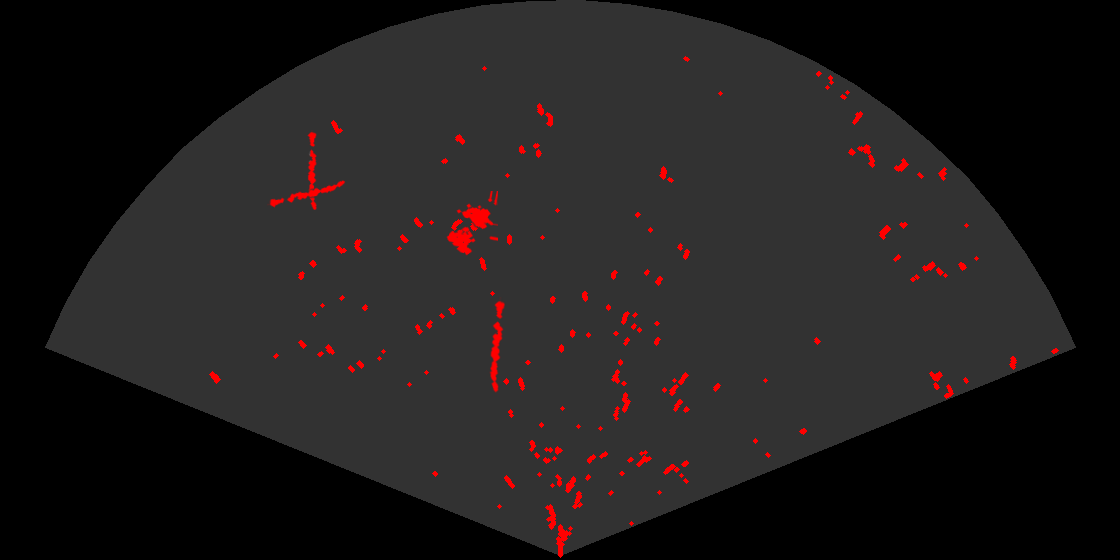cage: (445, 191, 498, 257)
chain: (267, 179, 347, 209), (488, 297, 506, 393), (306, 130, 318, 210)
